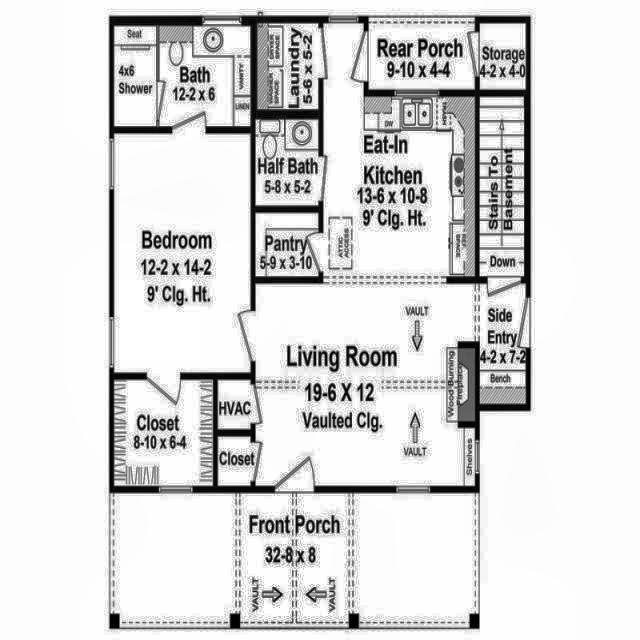room: (218, 23, 526, 486), (114, 133, 250, 372), (114, 25, 250, 126), (114, 381, 212, 485), (255, 120, 318, 205), (257, 22, 318, 109), (256, 213, 318, 276), (480, 23, 526, 89)
